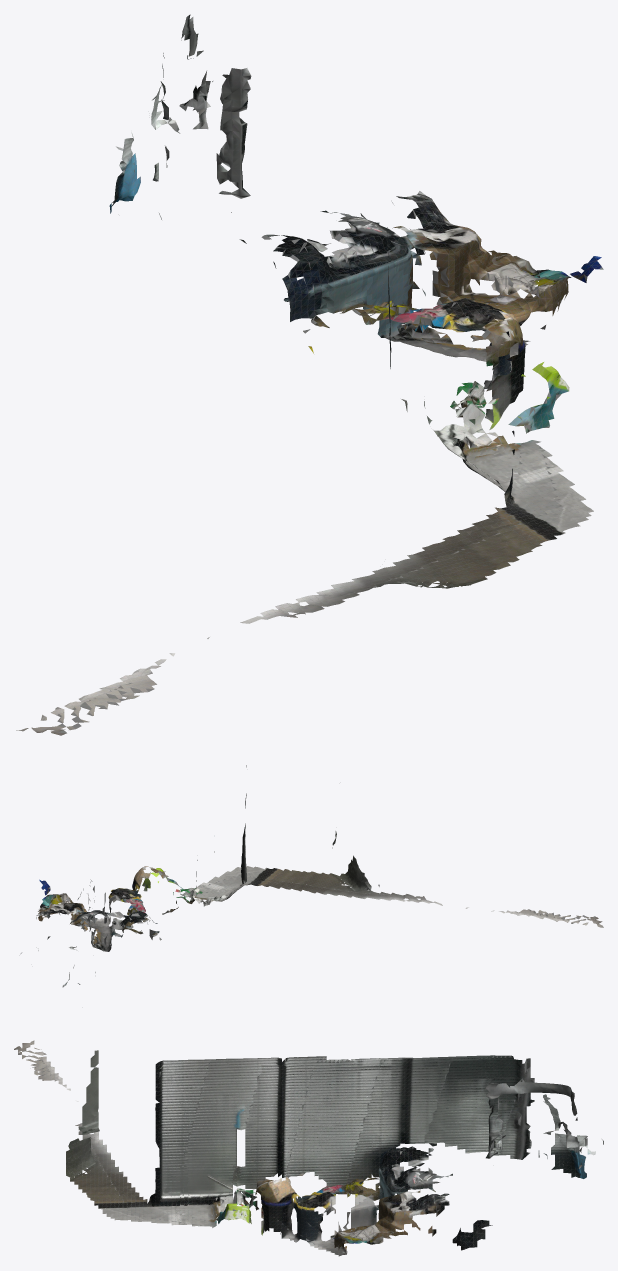
The picture shows the model from 3 angles, top to bottom: view 1: azimuth 30°, elevation 25°; view 2: azimuth 150°, elevation 25°; view 3: azimuth 270°, elevation 25°; orthographic projection. The views are drawn at different scales.
Visible parts, largest first — view 1: Node; view 2: Node; view 3: Node.
Boxes of the visible parts, x1=… form: Node: x1=16, y1=14, x2=603, y2=735; Node: x1=21, y1=765, x2=603, y2=987; Node: x1=14, y1=1040, x2=603, y2=1256.
Size of the model in its own units: 4.23 by 1.23 by 4.34.
1 material, 1 textured.
